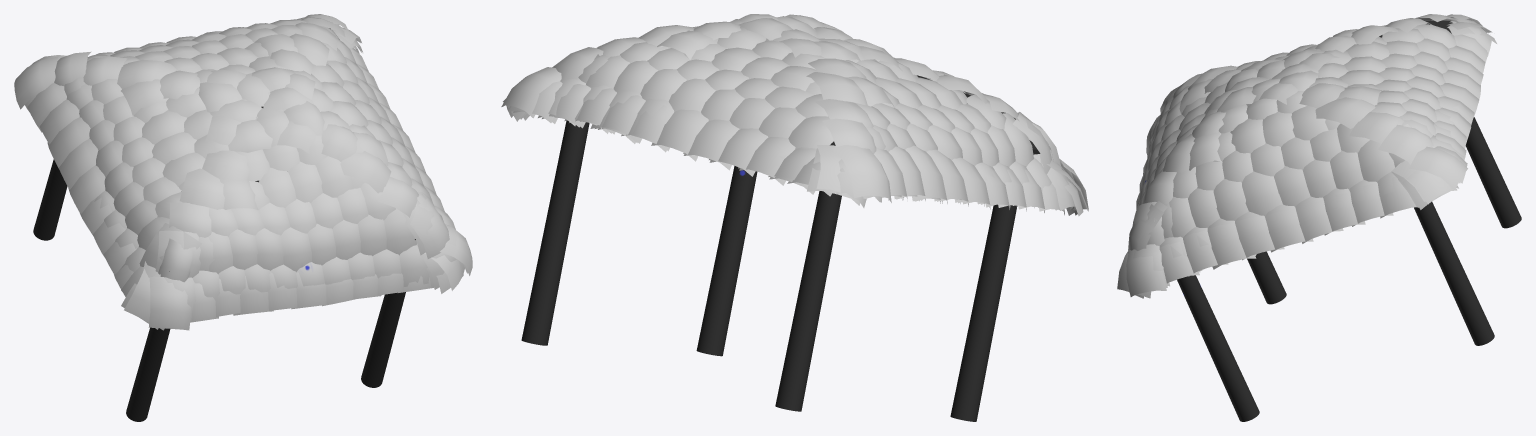
File: TikiHut7.baked.fbx.glb
The picture shows the model from 3 angles, left to right: view 1: azimuth 30°, elevation 25°; view 2: azimuth 150°, elevation 25°; view 3: azimuth 270°, elevation 25°; orthographic projection. The views are drawn at different scales.
Parts seen in each view (by area): view 1: node_id10, node_id25, node_id28, node_id6, node_id19, node_id22; view 2: node_id10, node_id6, node_id22, node_id25; view 3: node_id10, node_id19, node_id6, node_id22, node_id28.
Part boxes in pixels (<box>): node_id10: <box>25,17,467,320</box>; node_id25: <box>14,56,164,330</box>; node_id28: <box>148,253,463,330</box>; node_id6: <box>33,159,405,421</box>; node_id19: <box>338,26,472,275</box>; node_id22: <box>30,14,348,65</box>; node_id10: <box>508,14,1075,210</box>; node_id6: <box>521,120,1017,421</box>; node_id22: <box>501,67,866,207</box>; node_id25: <box>831,145,1088,216</box>; node_id10: <box>1128,14,1491,287</box>; node_id19: <box>1126,170,1458,296</box>; node_id6: <box>1177,117,1521,421</box>; node_id22: <box>1409,22,1496,189</box>; node_id28: <box>1117,115,1159,298</box>.
Bounding box in the file's own units: 0.4641 × 0.3868 × 0.4546.
8 materials, 8 textured.
